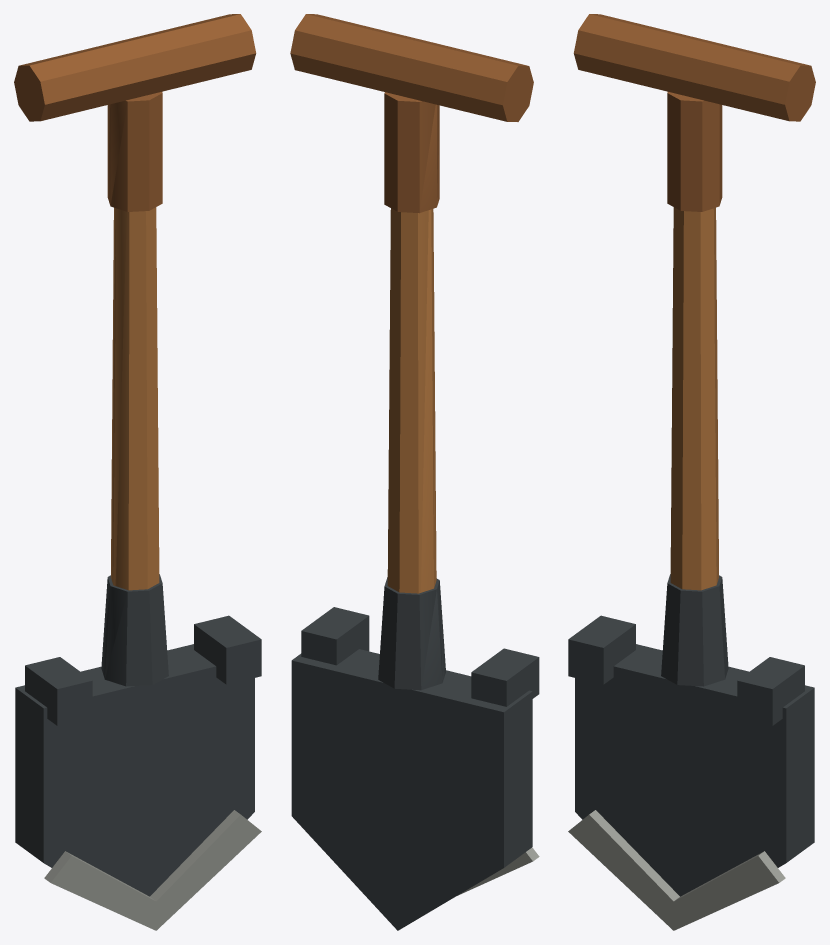
The model's file is 66_garden_spade.fbx.
The picture shows the model from 3 angles, left to right: view 1: azimuth 30°, elevation 25°; view 2: azimuth 150°, elevation 25°; view 3: azimuth 330°, elevation 25°; orthographic projection.
Parts seen in each view (by area): view 1: 66_garden_spade; view 2: 66_garden_spade; view 3: 66_garden_spade.
Boxes of the visible parts, bbox=[...] form: 66_garden_spade: bbox=[14, 14, 261, 930]; 66_garden_spade: bbox=[290, 14, 539, 930]; 66_garden_spade: bbox=[568, 14, 815, 930].
Bounding box in the file's own units: 0.3 × 1.19 × 0.103.
1 material, 1 textured.
